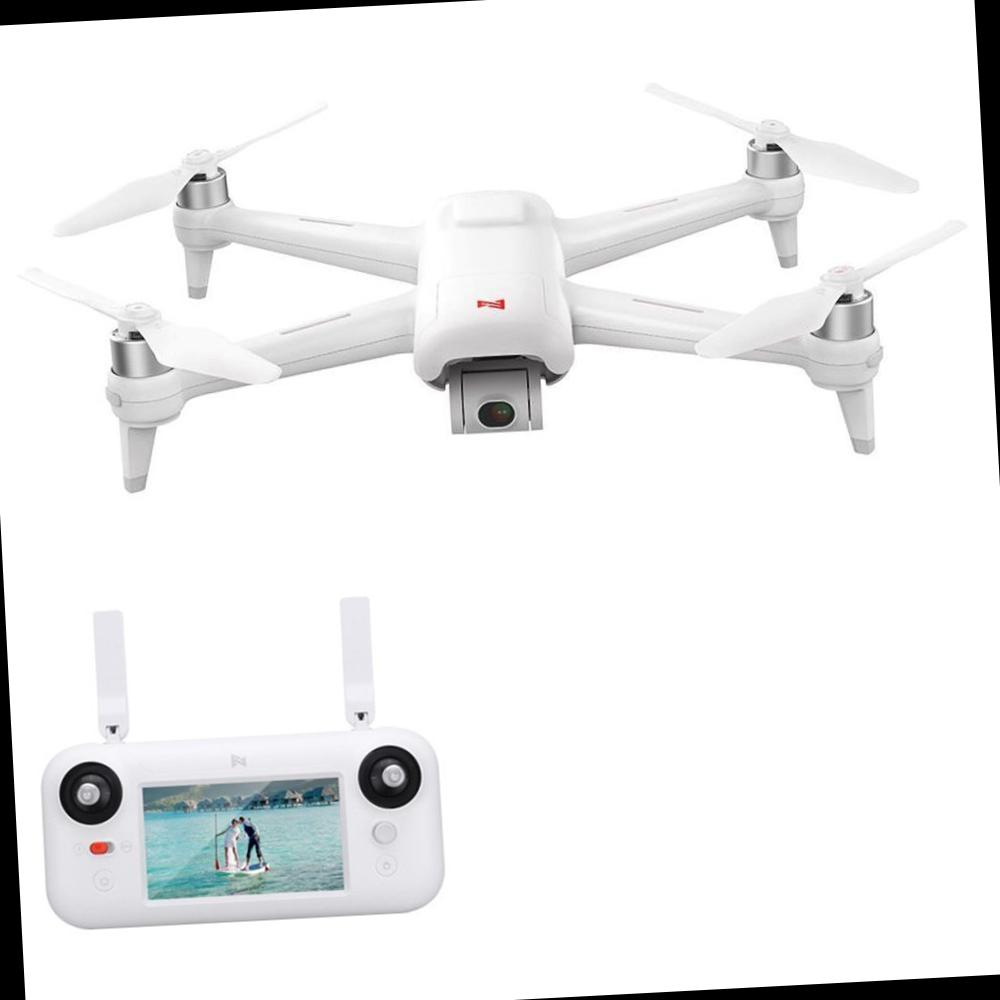drone: (22, 66, 962, 520)
